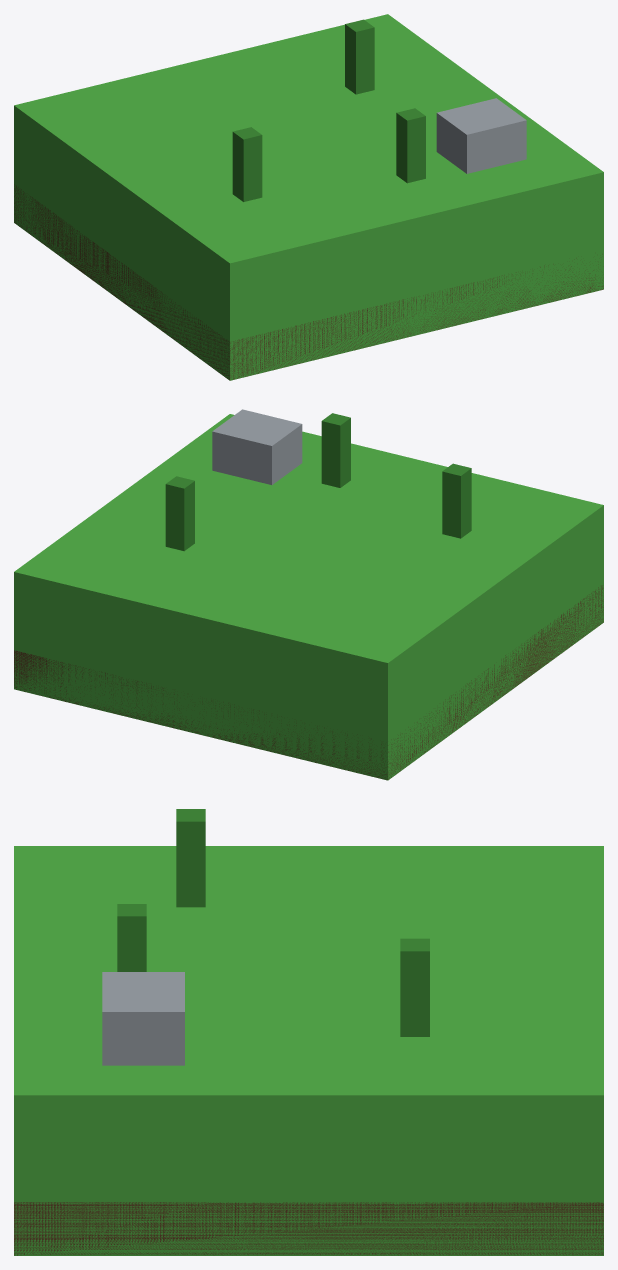
The model's file is scene__grassTile.glb.
The picture shows the model from 3 angles, top to bottom: view 1: azimuth 30°, elevation 25°; view 2: azimuth 150°, elevation 25°; view 3: azimuth 270°, elevation 25°; orthographic projection. The views are drawn at different scales.
Bounding box in the file's own units: 1 × 0.46 × 1.
